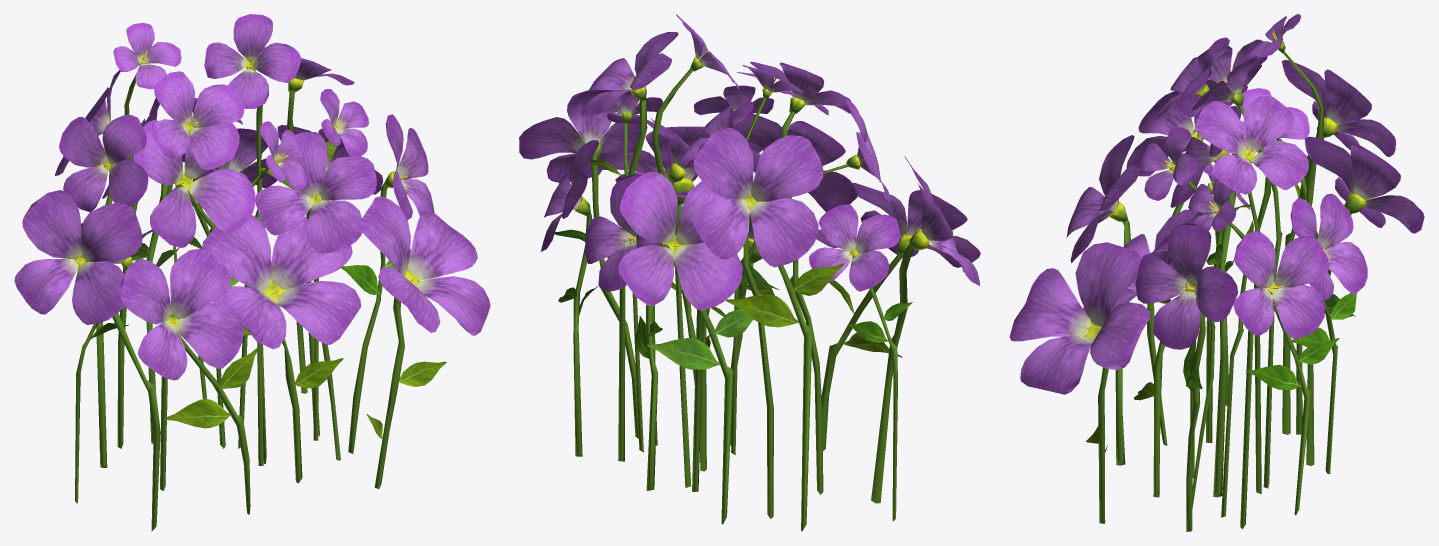
File: PurpleFlowers0LOD.fbx
The picture shows the model from 3 angles, left to right: view 1: azimuth 30°, elevation 25°; view 2: azimuth 150°, elevation 25°; view 3: azimuth 270°, elevation 25°; orthographic projection. The views are drawn at different scales.
Visible parts, largest first — view 1: PurpleFlowers0_LOD00; view 2: PurpleFlowers0_LOD00; view 3: PurpleFlowers0_LOD00.
Boxes of the visible parts, <box> form: PurpleFlowers0_LOD00: <box>14,14,490,531</box>; PurpleFlowers0_LOD00: <box>519,14,980,531</box>; PurpleFlowers0_LOD00: <box>1009,14,1424,531</box>.
Size of what is drawn, in the model's own units: 105 by 108 by 88.98.
